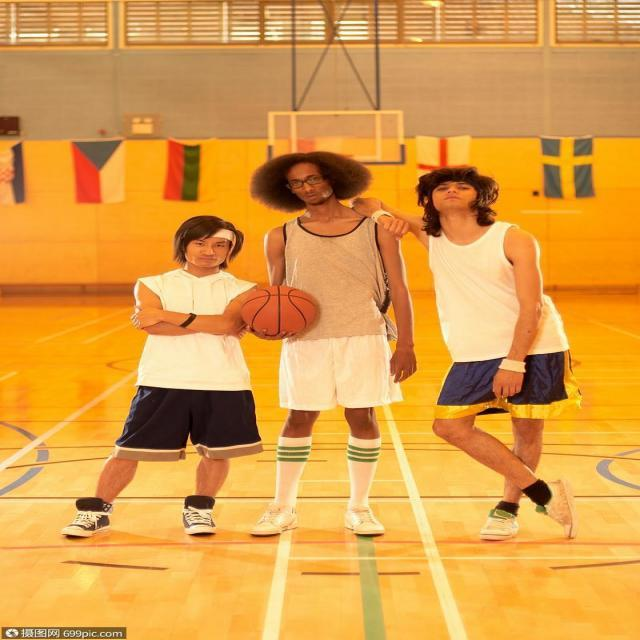rim: (244, 284, 320, 338)
